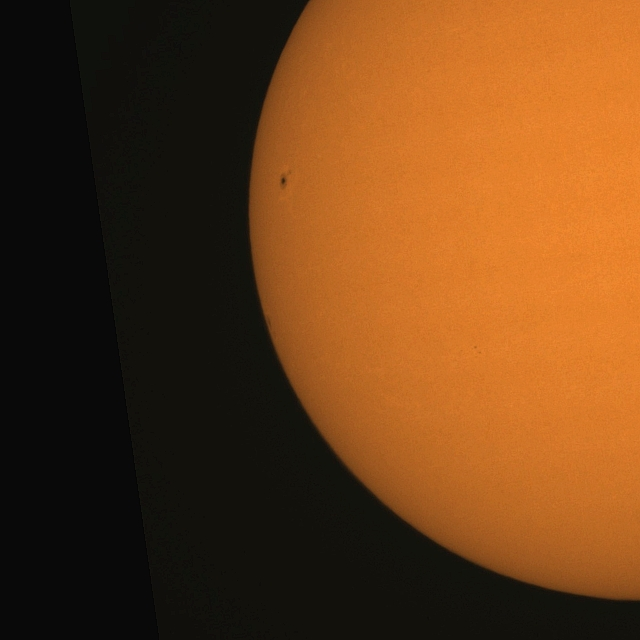sunspot: (279, 168, 293, 191), (472, 345, 482, 358)
